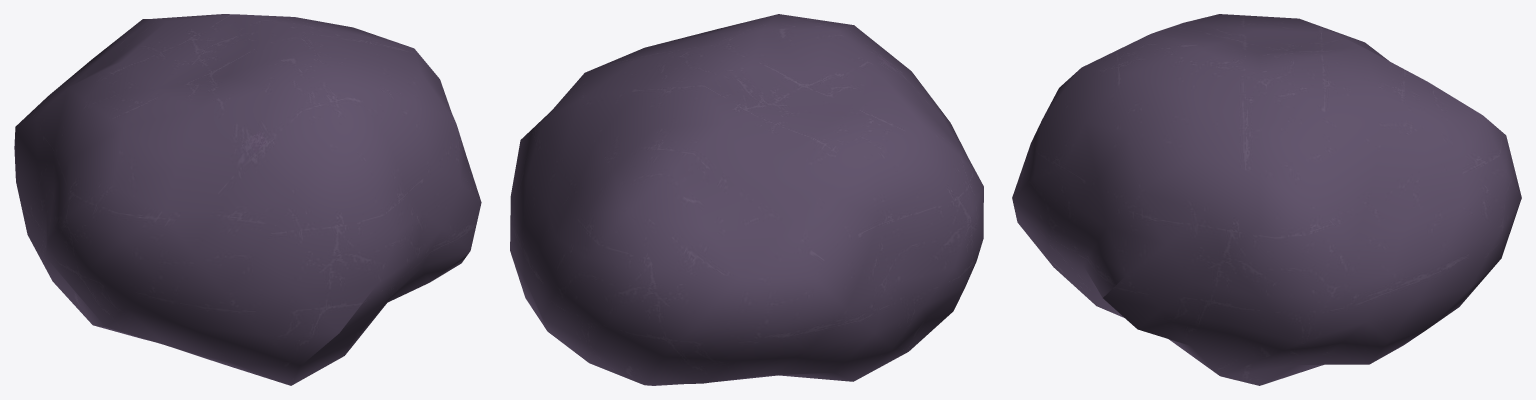
File: vol_rock_a.glb
The picture shows the model from 3 angles, left to right: view 1: azimuth 30°, elevation 25°; view 2: azimuth 150°, elevation 25°; view 3: azimuth 270°, elevation 25°; orthographic projection. The views are drawn at different scales.
Parts seen in each view (by area): view 1: vol_rock_a; view 2: vol_rock_a; view 3: vol_rock_a.
Part boxes in pixels (x1,y1,x2,y2): vol_rock_a: (14,14,481,385); vol_rock_a: (510,14,983,385); vol_rock_a: (1012,14,1521,385).
Size of the model in its own units: 0.8379 by 0.6039 by 0.9155.
1 material, 1 textured.
